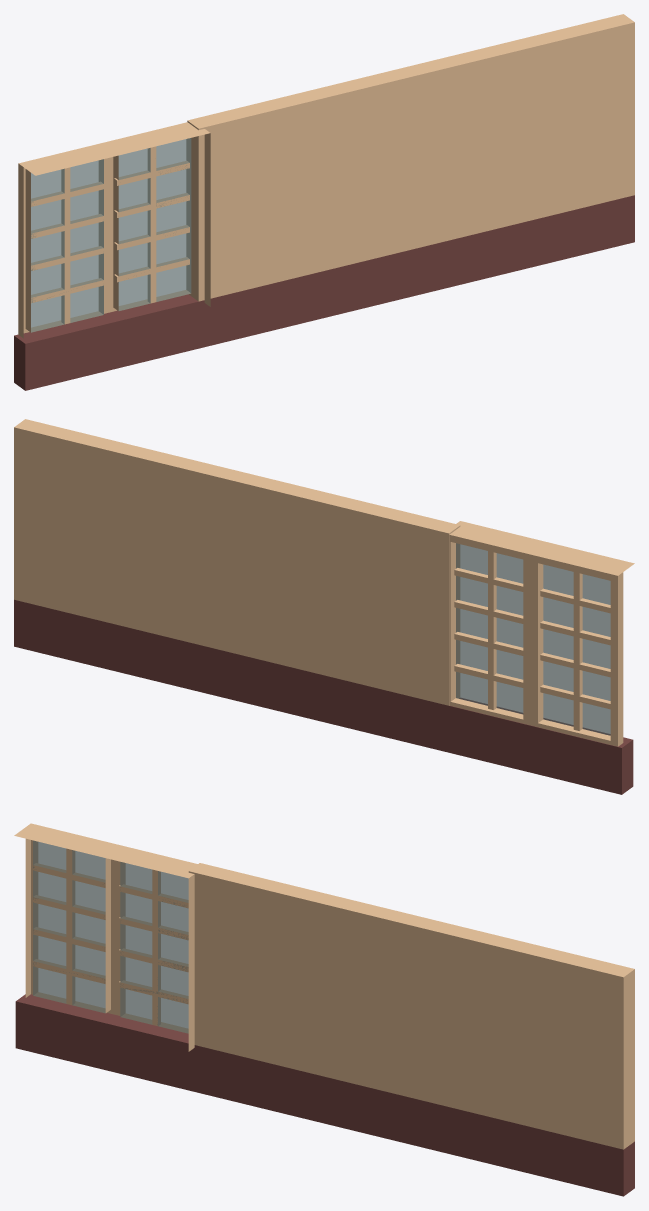
File: parede esquerda.fbx
3 renders of one model, top to bottom at view 1: azimuth 30°, elevation 25°; view 2: azimuth 150°, elevation 25°; view 3: azimuth 330°, elevation 25°, orthographic.
Visible parts, largest first — view 1: Plane.086; view 2: Plane.086; view 3: Plane.086.
Boxes of the visible parts, x1,y1,x2,y2 form: Plane.086: (14, 14, 634, 390); Plane.086: (14, 419, 634, 794); Plane.086: (14, 823, 634, 1196).
Bounding box in the file's own units: 40.34 × 13.9 × 1.98.
